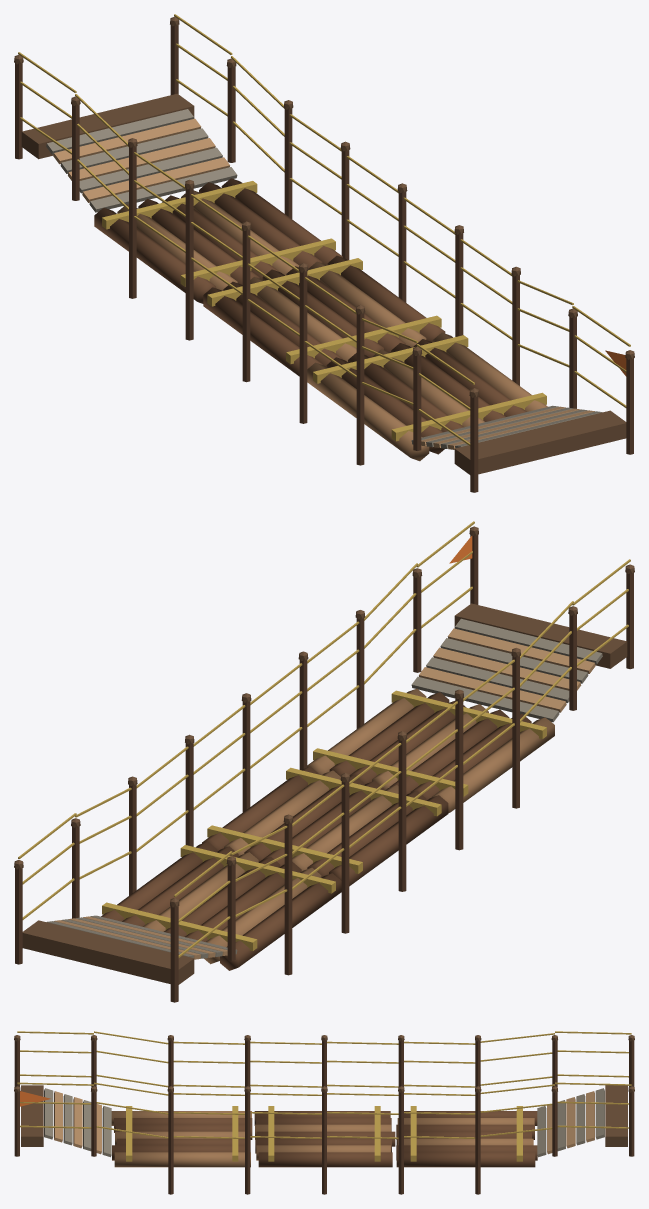
The model's file is raft_lane.glb.
3 views of the same model, one above another, from view 1: azimuth 30°, elevation 25°; view 2: azimuth 150°, elevation 25°; view 3: azimuth 270°, elevation 25° (orthographic). The views are drawn at different scales.
Visible parts, largest first — view 1: LOD0; view 2: LOD0; view 3: LOD0.
Part boxes in pixels (x1=…): LOD0: x1=14, y1=14, x2=634, y2=492; LOD0: x1=14, y1=521, x2=634, y2=1002; LOD0: x1=14, y1=1031, x2=634, y2=1194.
Size of the model in its own units: 3.37 by 3.22 by 16.37.
Materials: 1 (1 with a texture image).
